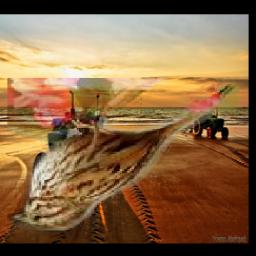Sparrow: (7, 78, 243, 234)
